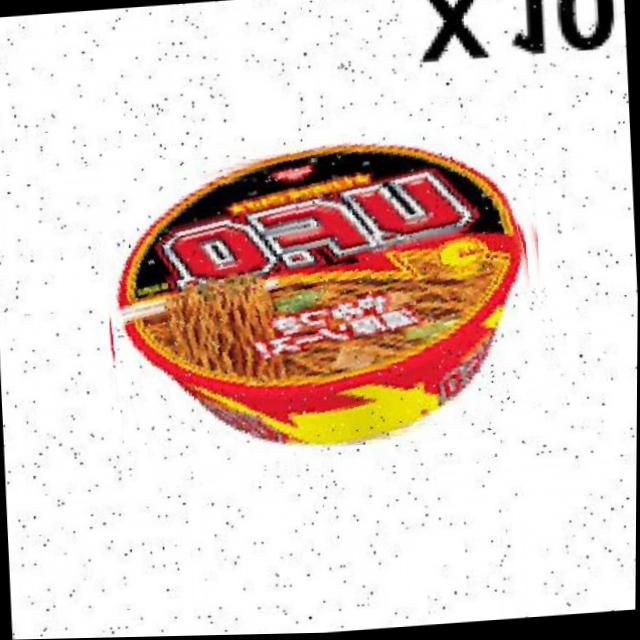Miscellaneous: (99, 120, 561, 484)
